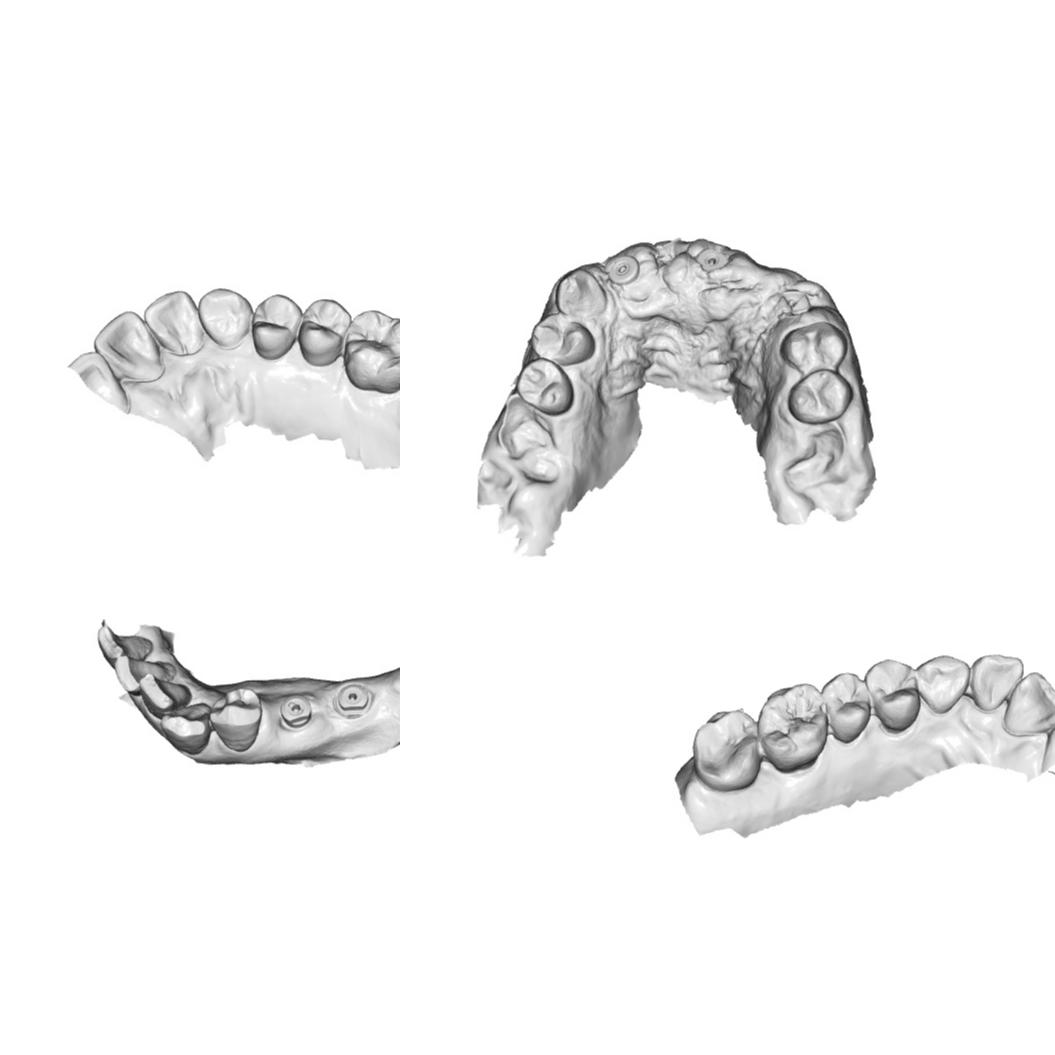canine: (914, 653, 972, 716), (197, 287, 254, 350), (159, 701, 212, 756), (554, 267, 608, 315)
implant: (332, 681, 372, 719), (606, 253, 641, 285), (693, 246, 730, 272)
implant_minus: (278, 693, 314, 730)
incisor: (92, 310, 167, 384), (143, 288, 206, 356), (1005, 670, 1055, 748), (968, 653, 1024, 713), (113, 654, 178, 696), (95, 622, 155, 667), (138, 672, 192, 719), (1041, 713, 1055, 773)
molar: (755, 682, 829, 774), (691, 706, 758, 794), (341, 308, 400, 395)
premolar: (864, 657, 920, 735), (296, 297, 352, 367), (786, 368, 854, 424), (208, 686, 264, 754), (779, 320, 848, 374), (250, 292, 303, 362), (823, 671, 871, 746), (530, 312, 596, 366), (516, 356, 574, 416)
